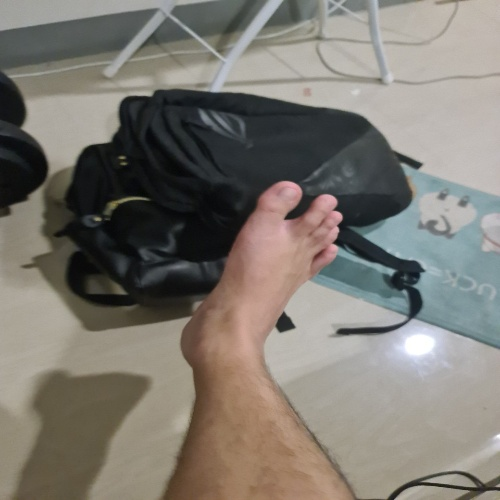3: (258, 181, 301, 220)
Top_Foot: (180, 181, 340, 363)
